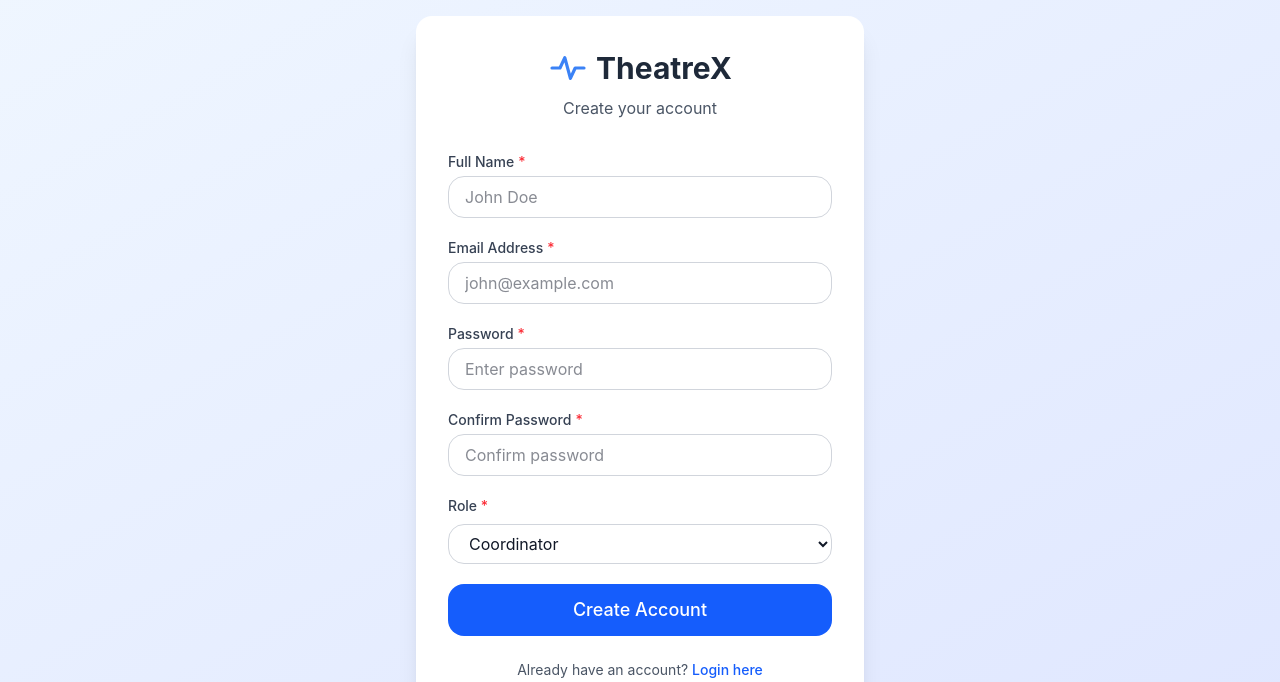
Test: Register Component Tests › Form Submission › should handle registration errors
The image size is (1280, 682).
// Fill all required fields
Step 1. Type "Test User" into the field with placeholder "John Doe" → point(640, 197), box [448,176,832,218]
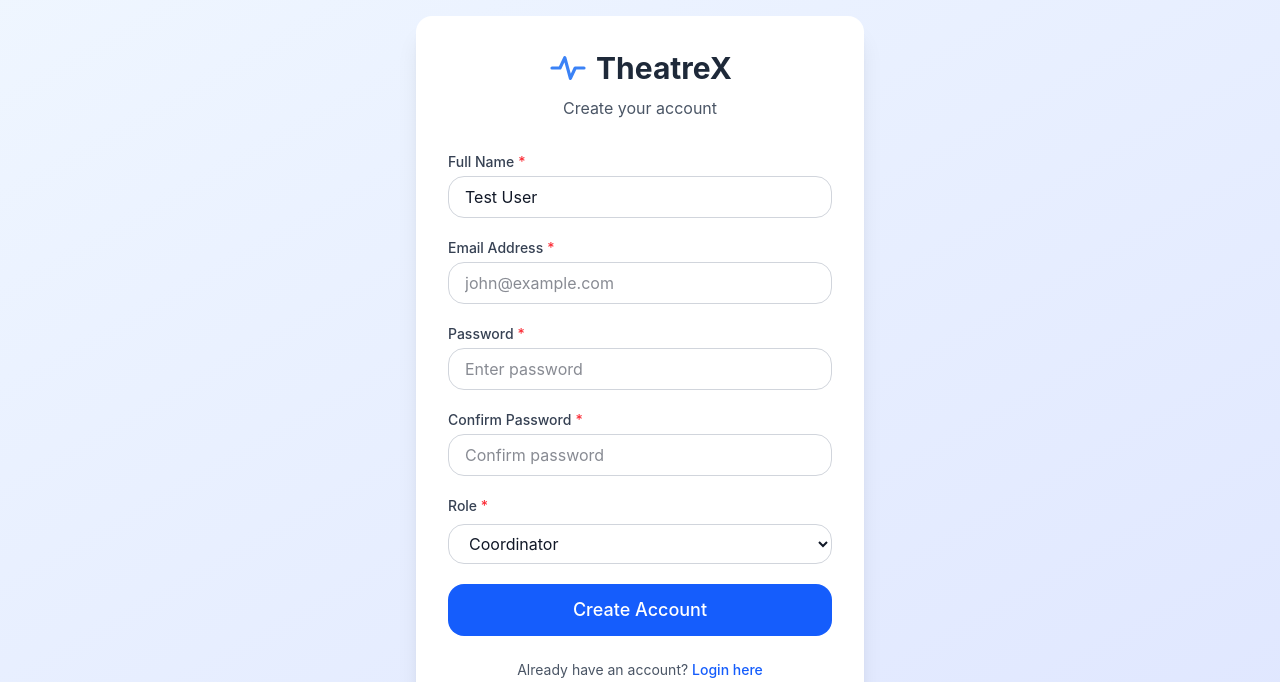
Step 2. Type "existing@example.com" into the field with placeholder "john@example.com" → point(640, 283), box [448,262,832,304]
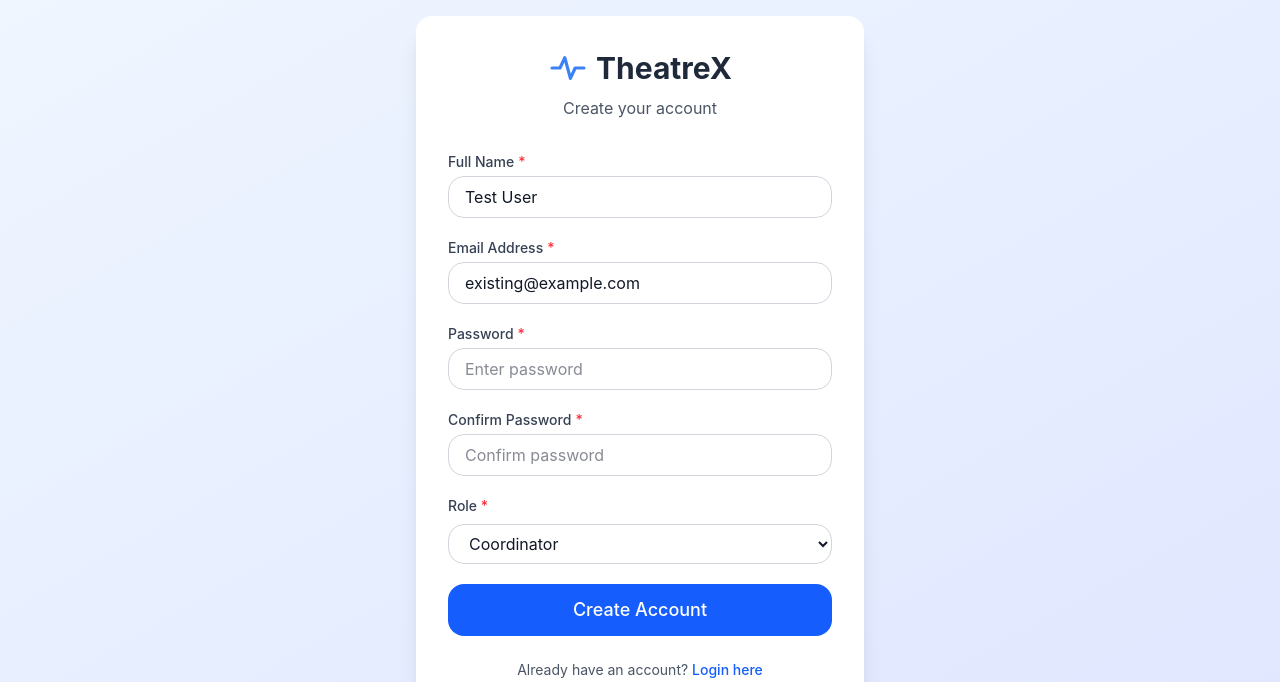
Step 3. Type "SecurePass123!" into the password field with placeholder "Enter password" → point(640, 369), box [448,348,832,390]
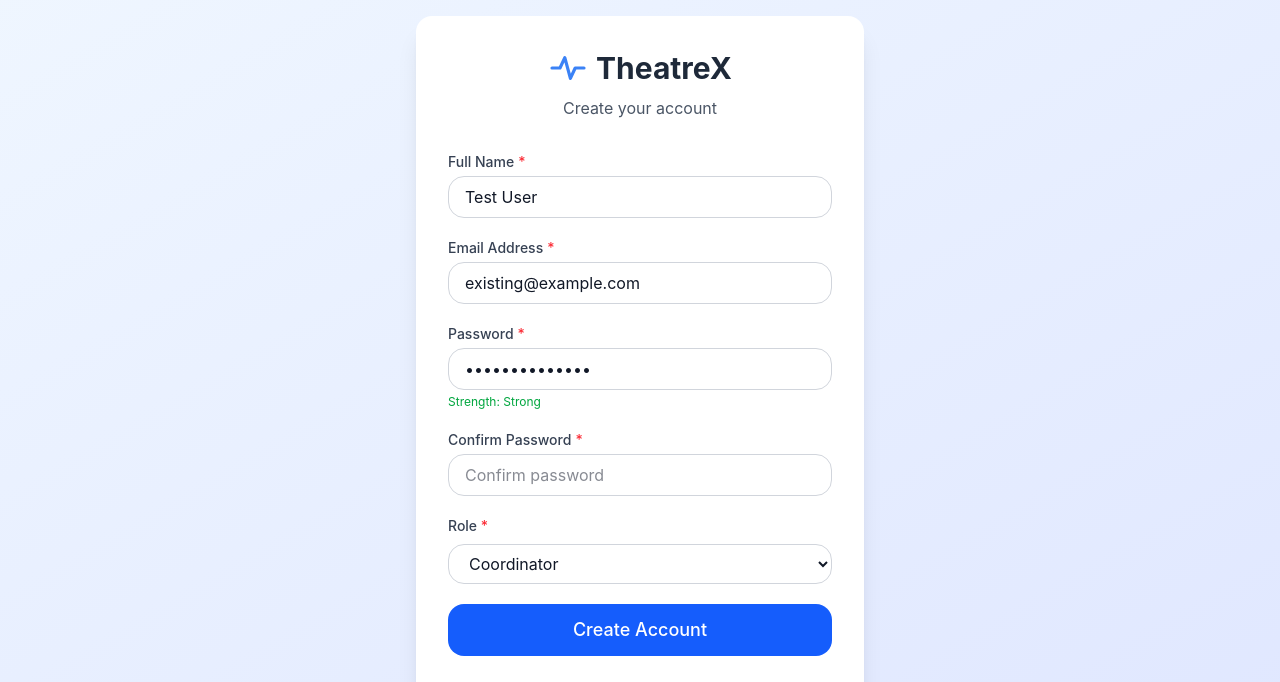
Step 4. Type "SecurePass123!" into the password field with placeholder "Confirm Password" → point(640, 475), box [448,454,832,496]
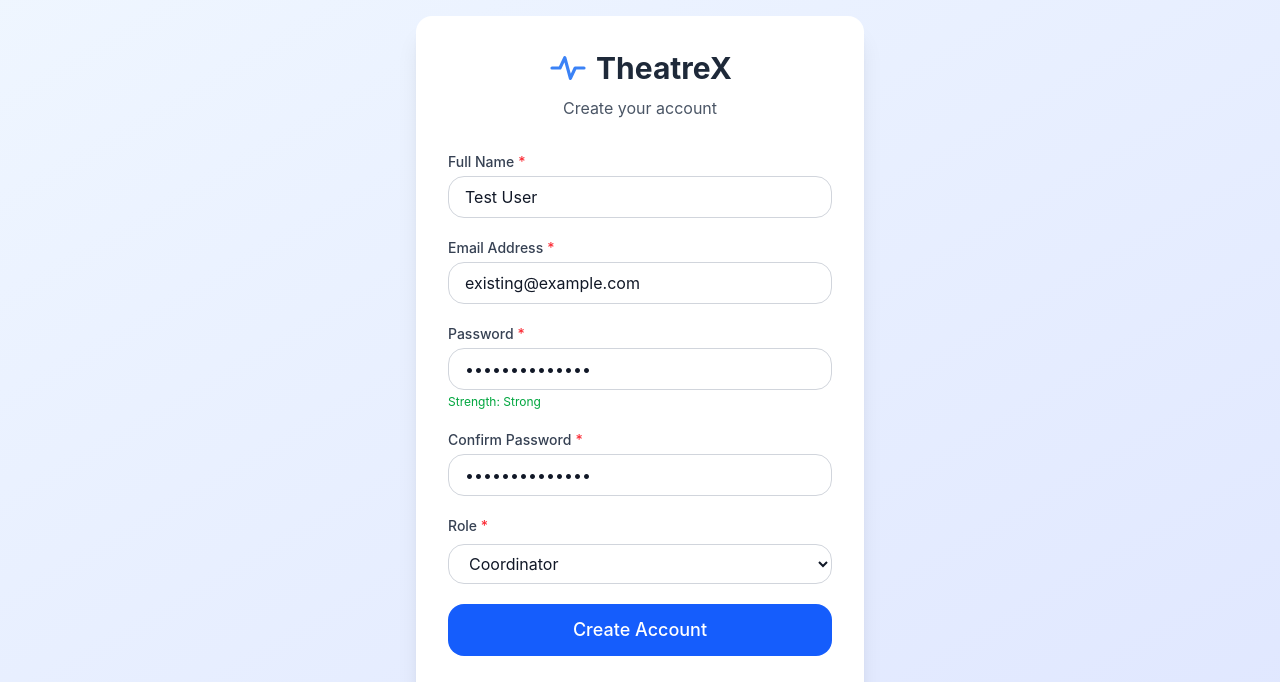
Step 5. Click the button "Create Account" → point(640, 630), box [448,604,832,656]
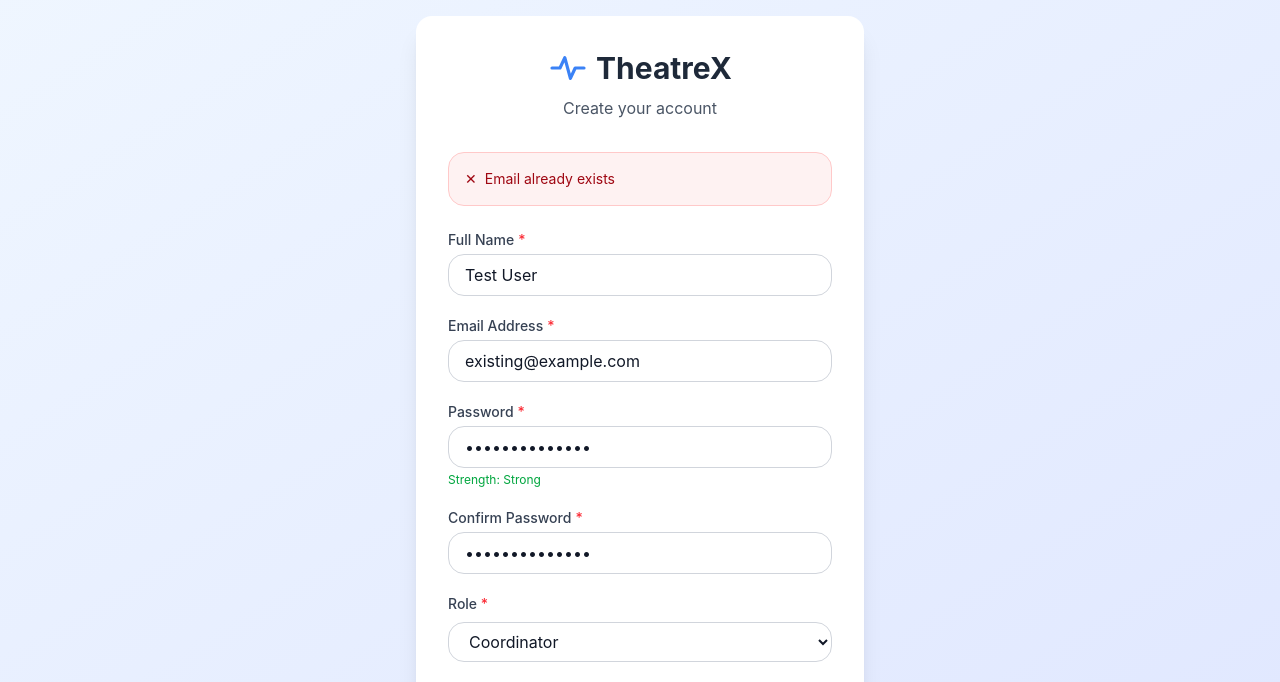
Expected: the text "✕ Email already exists" is shown, [465,170,615,187]
